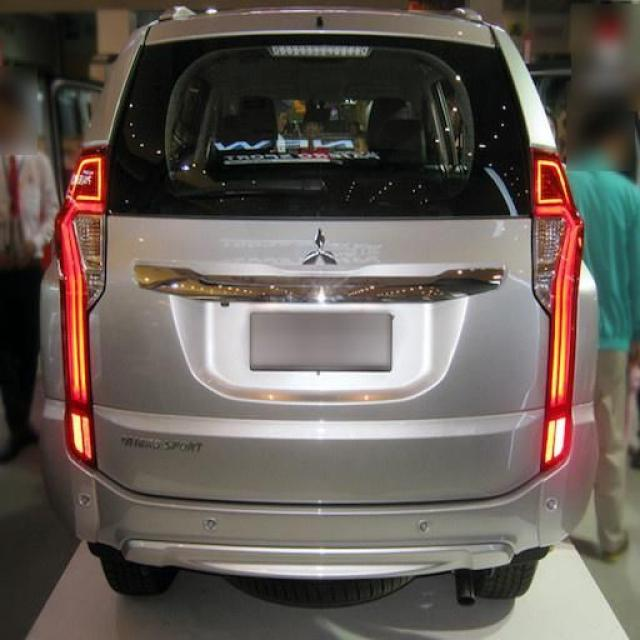back_bumper: (33, 392, 601, 576)
back_glass: (108, 33, 531, 219)
back_left_light: (55, 141, 112, 471)
back_right_light: (526, 149, 585, 473)
tailgate: (89, 212, 552, 504)
